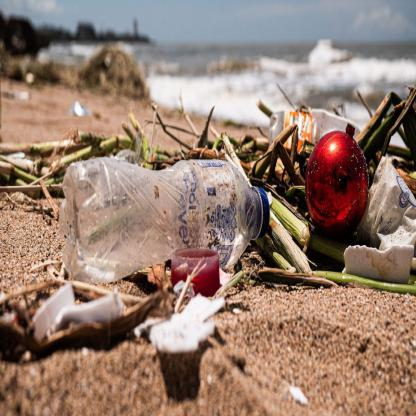Plastic: (54, 152, 272, 288)
